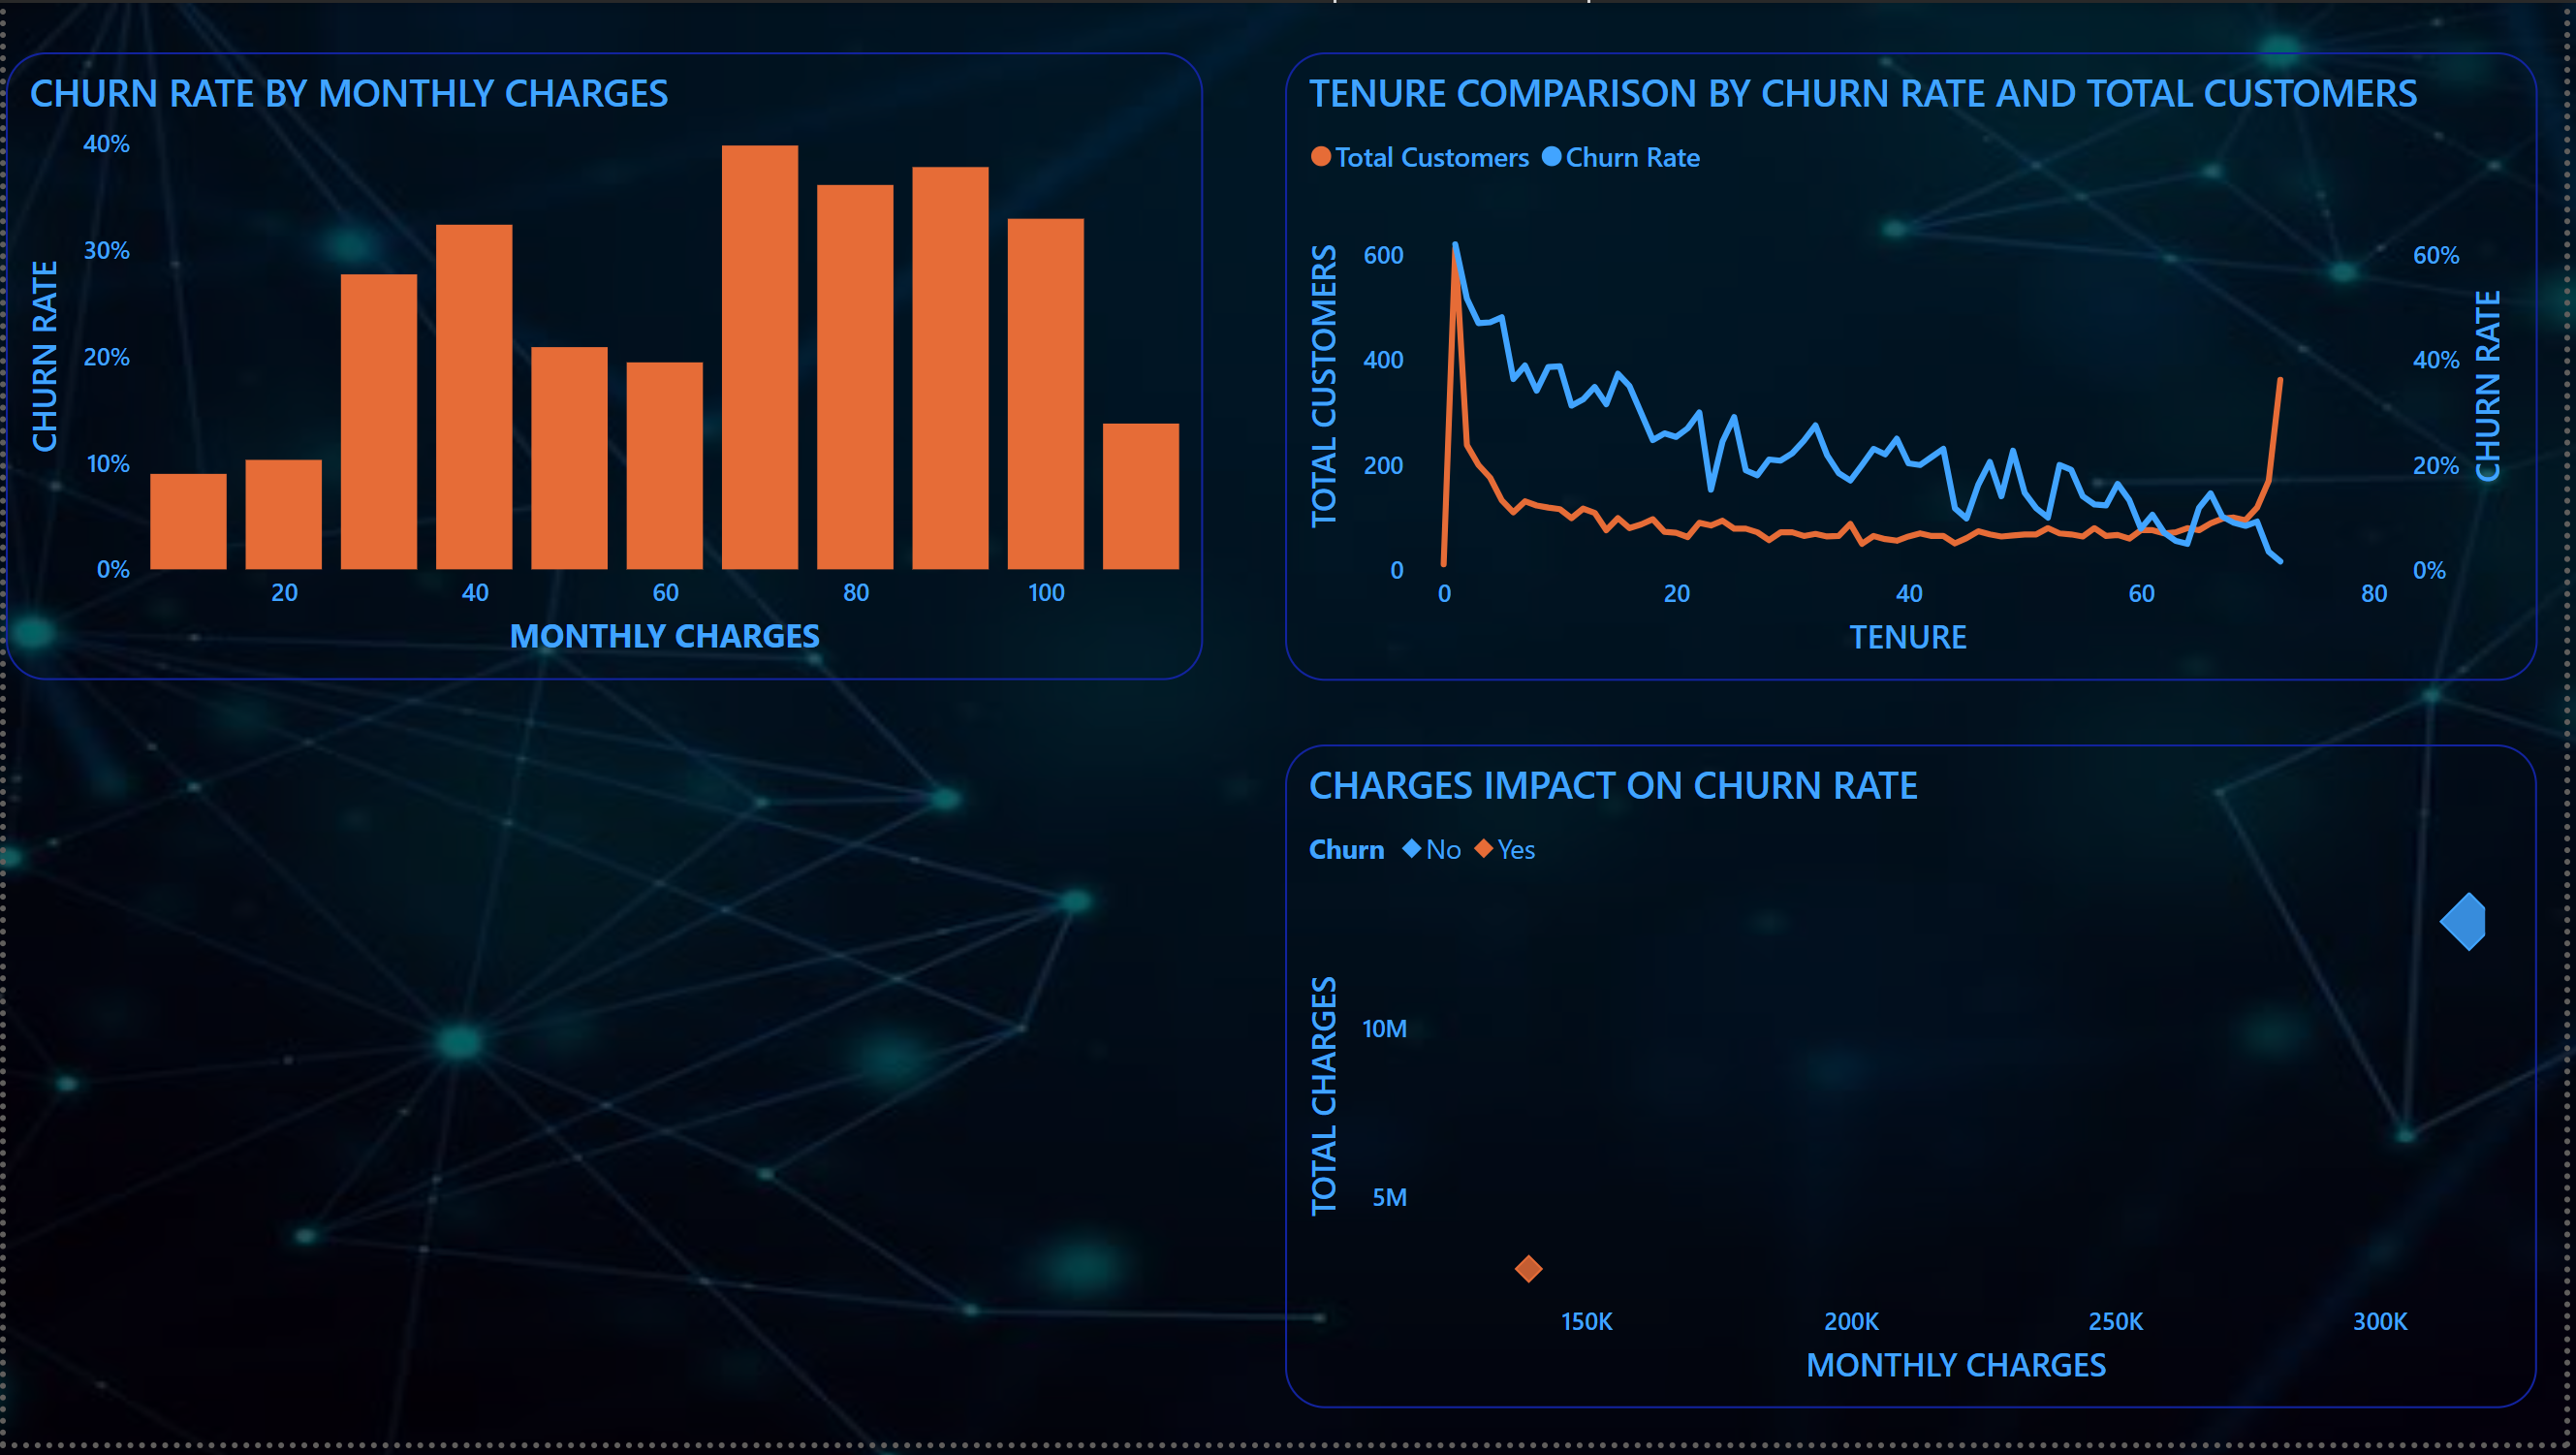

The page's visual inventory and layout, read from the dashboard file:
{"tool":"powerbi","page":{"name":"Page 4","canvas":[1280,720],"ordinal":3},"visuals":[{"type":"scatterChart","title":"CHARGES IMPACT ON CHURN RATE ","fields":{"X":["Sum(Customer Churn.MonthlyCharges)"],"Y":["Sum(Customer Churn.TotalCharges)"],"Series":["Customer Churn.Churn"],"Size":["Sum(Customer Churn.tenure)"]},"box":[640,371.6,626.4,332.1],"z":1000},{"type":"clusteredColumnChart","title":"CHURN RATE BY MONTHLY CHARGES","fields":{"Category":["Customer Churn.MonthlyCharges (bins)"],"Y":["Customer Churn.Churn Rate"]},"box":[0,24.3,599.1,313.9],"z":2000},{"type":"lineChart","title":"TENURE COMPARISON BY CHURN RATE AND TOTAL CUSTOMERS","fields":{"Category":["Customer Churn.tenure"],"Y":["Customer Churn.Total Customers"],"Y2":["Customer Churn.Churn Rate"]},"box":[640,24.6,626.7,314.3],"z":3000}]}

Visuals, with their boxes in screenshot pixels (x1, y1, x2, y2), scaled from the page's 1280x720 canvas onto the 2576x1455 screenshot:
"CHARGES IMPACT ON CHURN RATE " scatterChart: 1288,751,2549,1422
"CHURN RATE BY MONTHLY CHARGES" clusteredColumnChart: 0,49,1206,683
"TENURE COMPARISON BY CHURN RATE AND TOTAL CUSTOMERS" lineChart: 1288,49,2549,685
